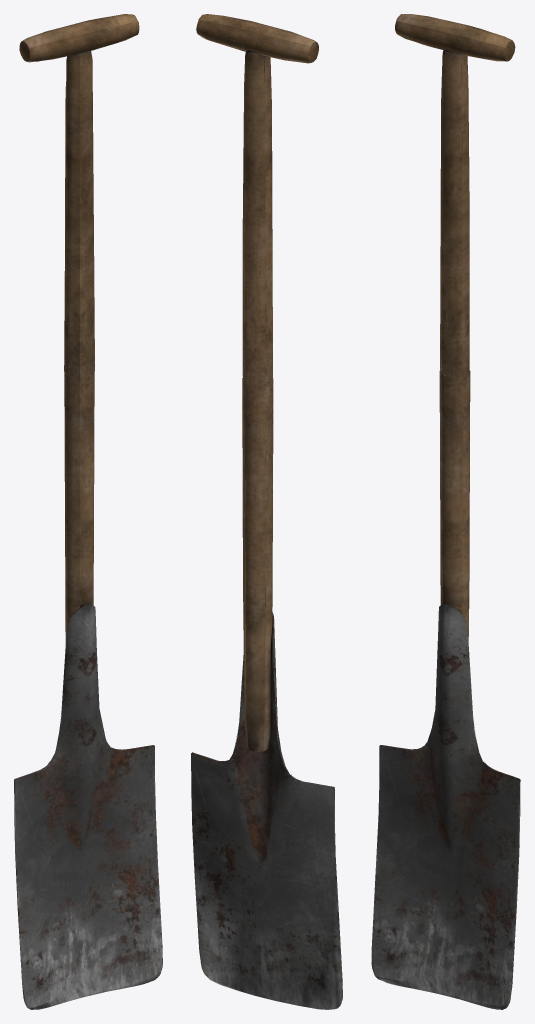
File: rusted_spade_01.glb
The picture shows the model from 3 angles, left to right: view 1: azimuth 30°, elevation 25°; view 2: azimuth 150°, elevation 25°; view 3: azimuth 330°, elevation 25°; orthographic projection. The views are drawn at different scales.
Parts seen in each view (by area): view 1: rusted_spade_01; view 2: rusted_spade_01; view 3: rusted_spade_01.
Part boxes in pixels (box(x1,y1,x2,y2)): rusted_spade_01: box(14, 14, 162, 1009); rusted_spade_01: box(191, 14, 342, 1009); rusted_spade_01: box(371, 14, 520, 1009).
Size of the model in its own units: 0.1682 by 1.1 by 0.0459.
Materials: 1 (1 with a texture image).
